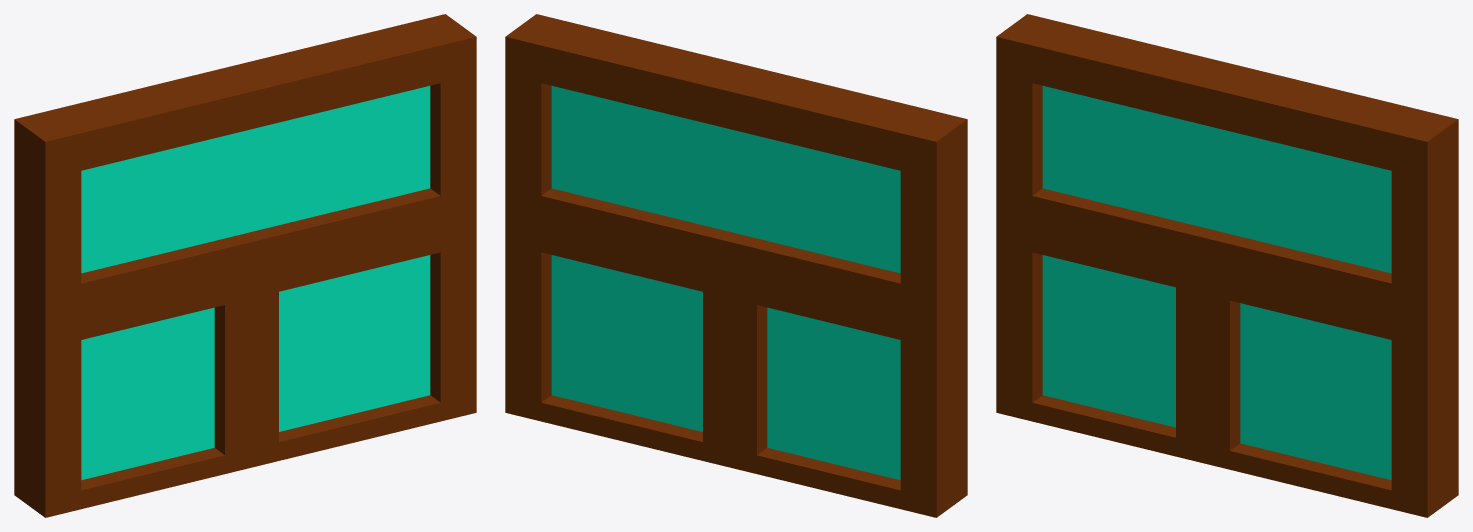
Rendered from window.obj.
3 views of the same model, side by side, from view 1: azimuth 30°, elevation 25°; view 2: azimuth 150°, elevation 25°; view 3: azimuth 330°, elevation 25° (orthographic).
Size of the model in its own units: 2.4 by 2 by 0.3.
Materials: 1 (1 with a texture image).
